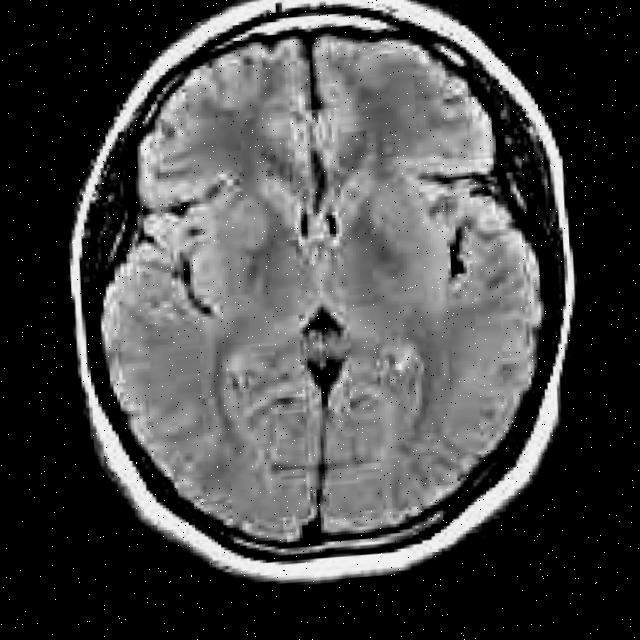NoTumor: (54, 0, 592, 606)
